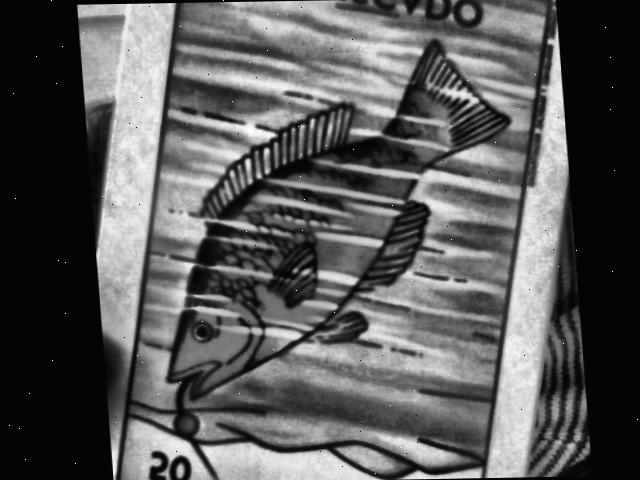El Pescado: (111, 0, 548, 480)
